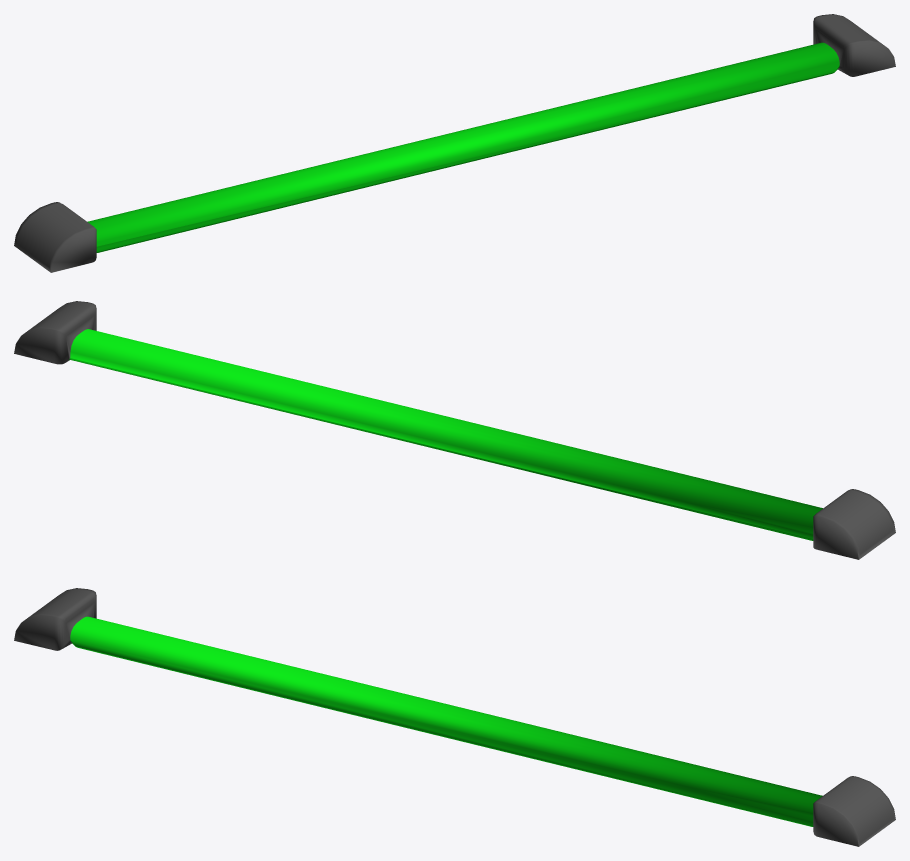
The model's file is Notes_Kick.fbx.
The picture shows the model from 3 angles, top to bottom: view 1: azimuth 30°, elevation 25°; view 2: azimuth 150°, elevation 25°; view 3: azimuth 330°, elevation 25°; orthographic projection.
Parts seen in each view (by area): view 1: Cube.020; view 2: Cube.020; view 3: Cube.020.
Boxes of the visible parts, x1,y1,x2,y2 form: Cube.020: (14,14,895,272); Cube.020: (14,301,895,559); Cube.020: (14,588,895,846).
Bounding box in the file's own units: 1493 × 56.84 × 113.
